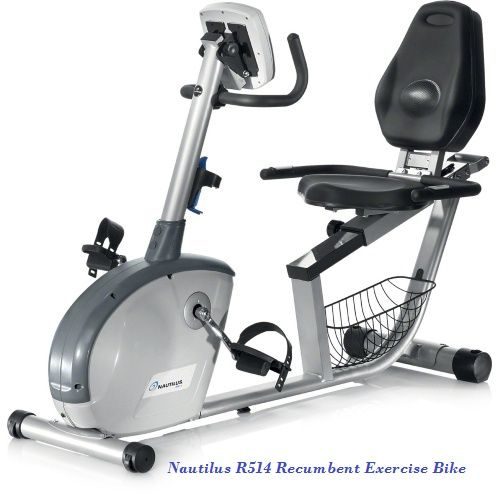gym_bike: (9, 1, 492, 476)
